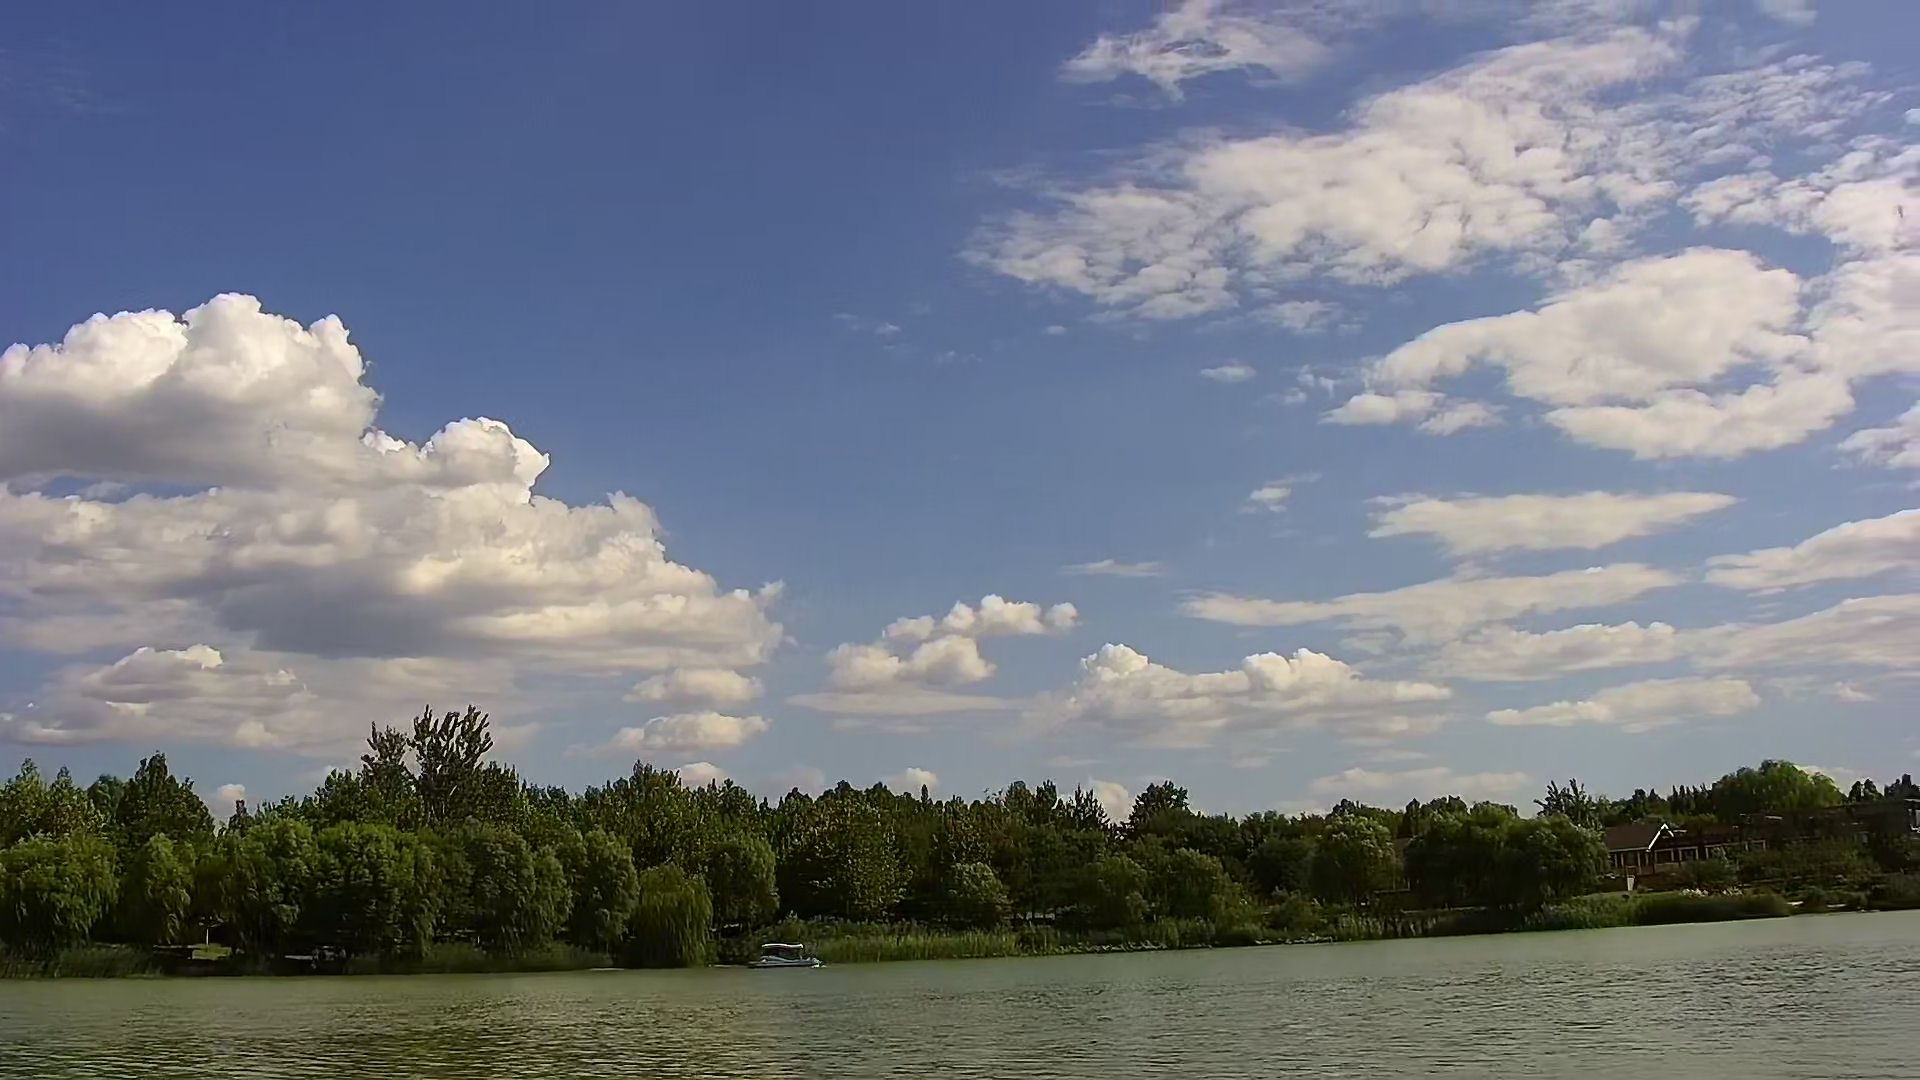boat: (742, 940, 833, 973)
